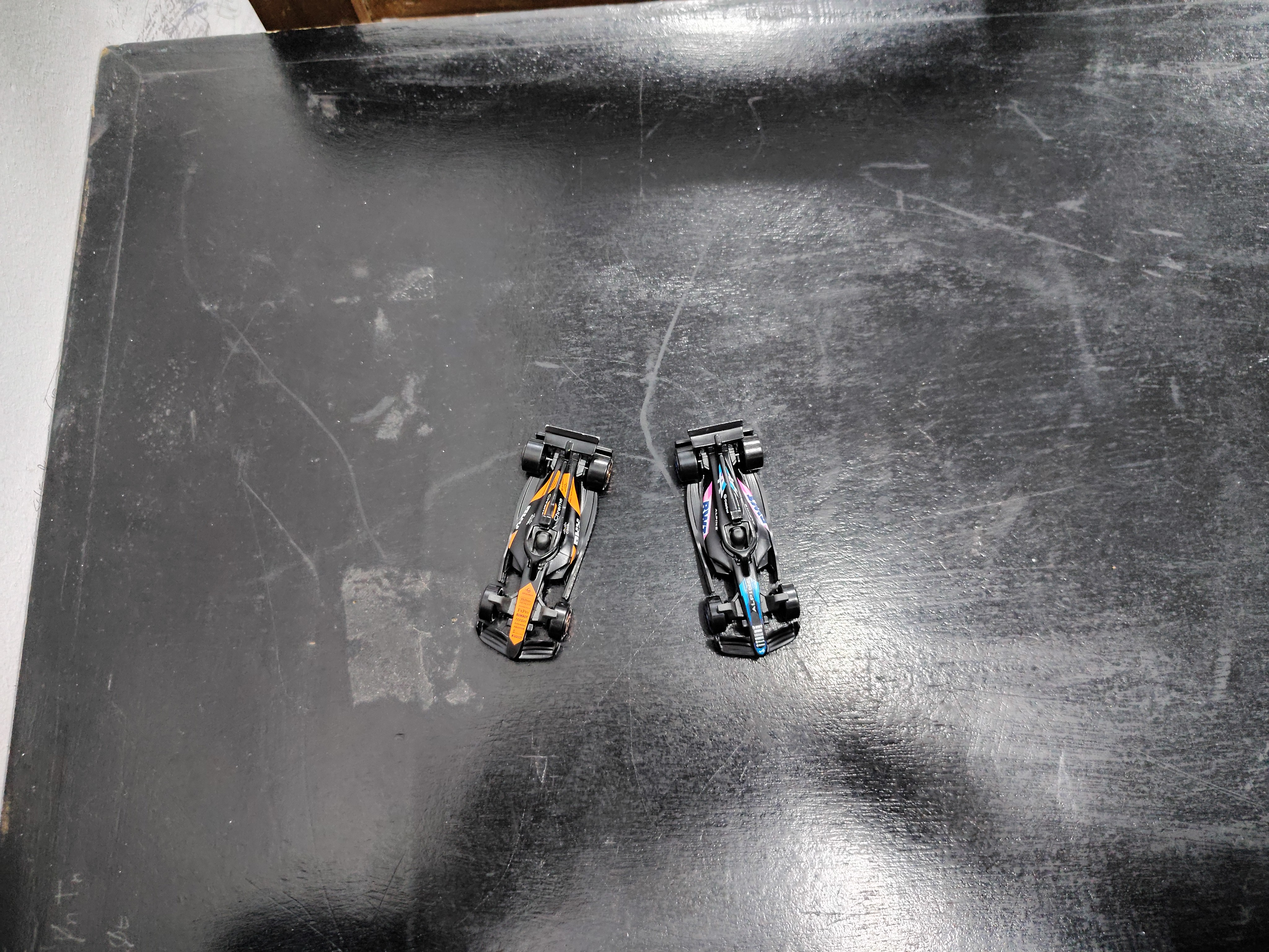Alpine A524: (615, 356, 863, 669)
McLaren MCL40: (446, 318, 621, 680)
